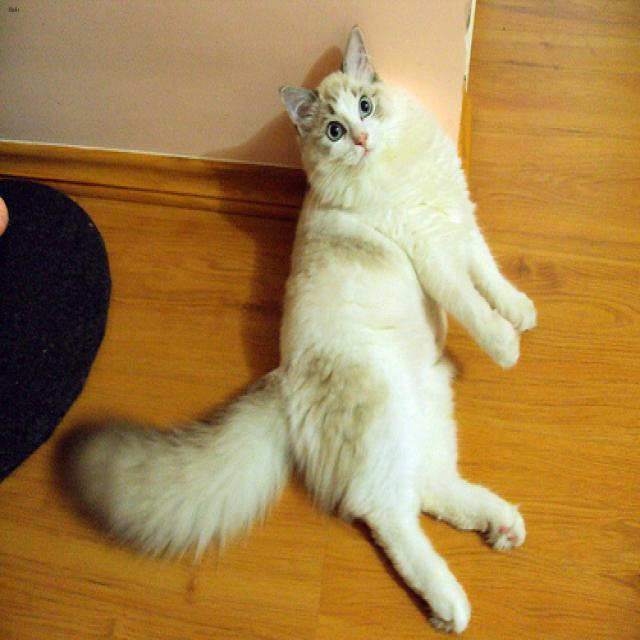Ragdoll: (278, 24, 387, 167)
